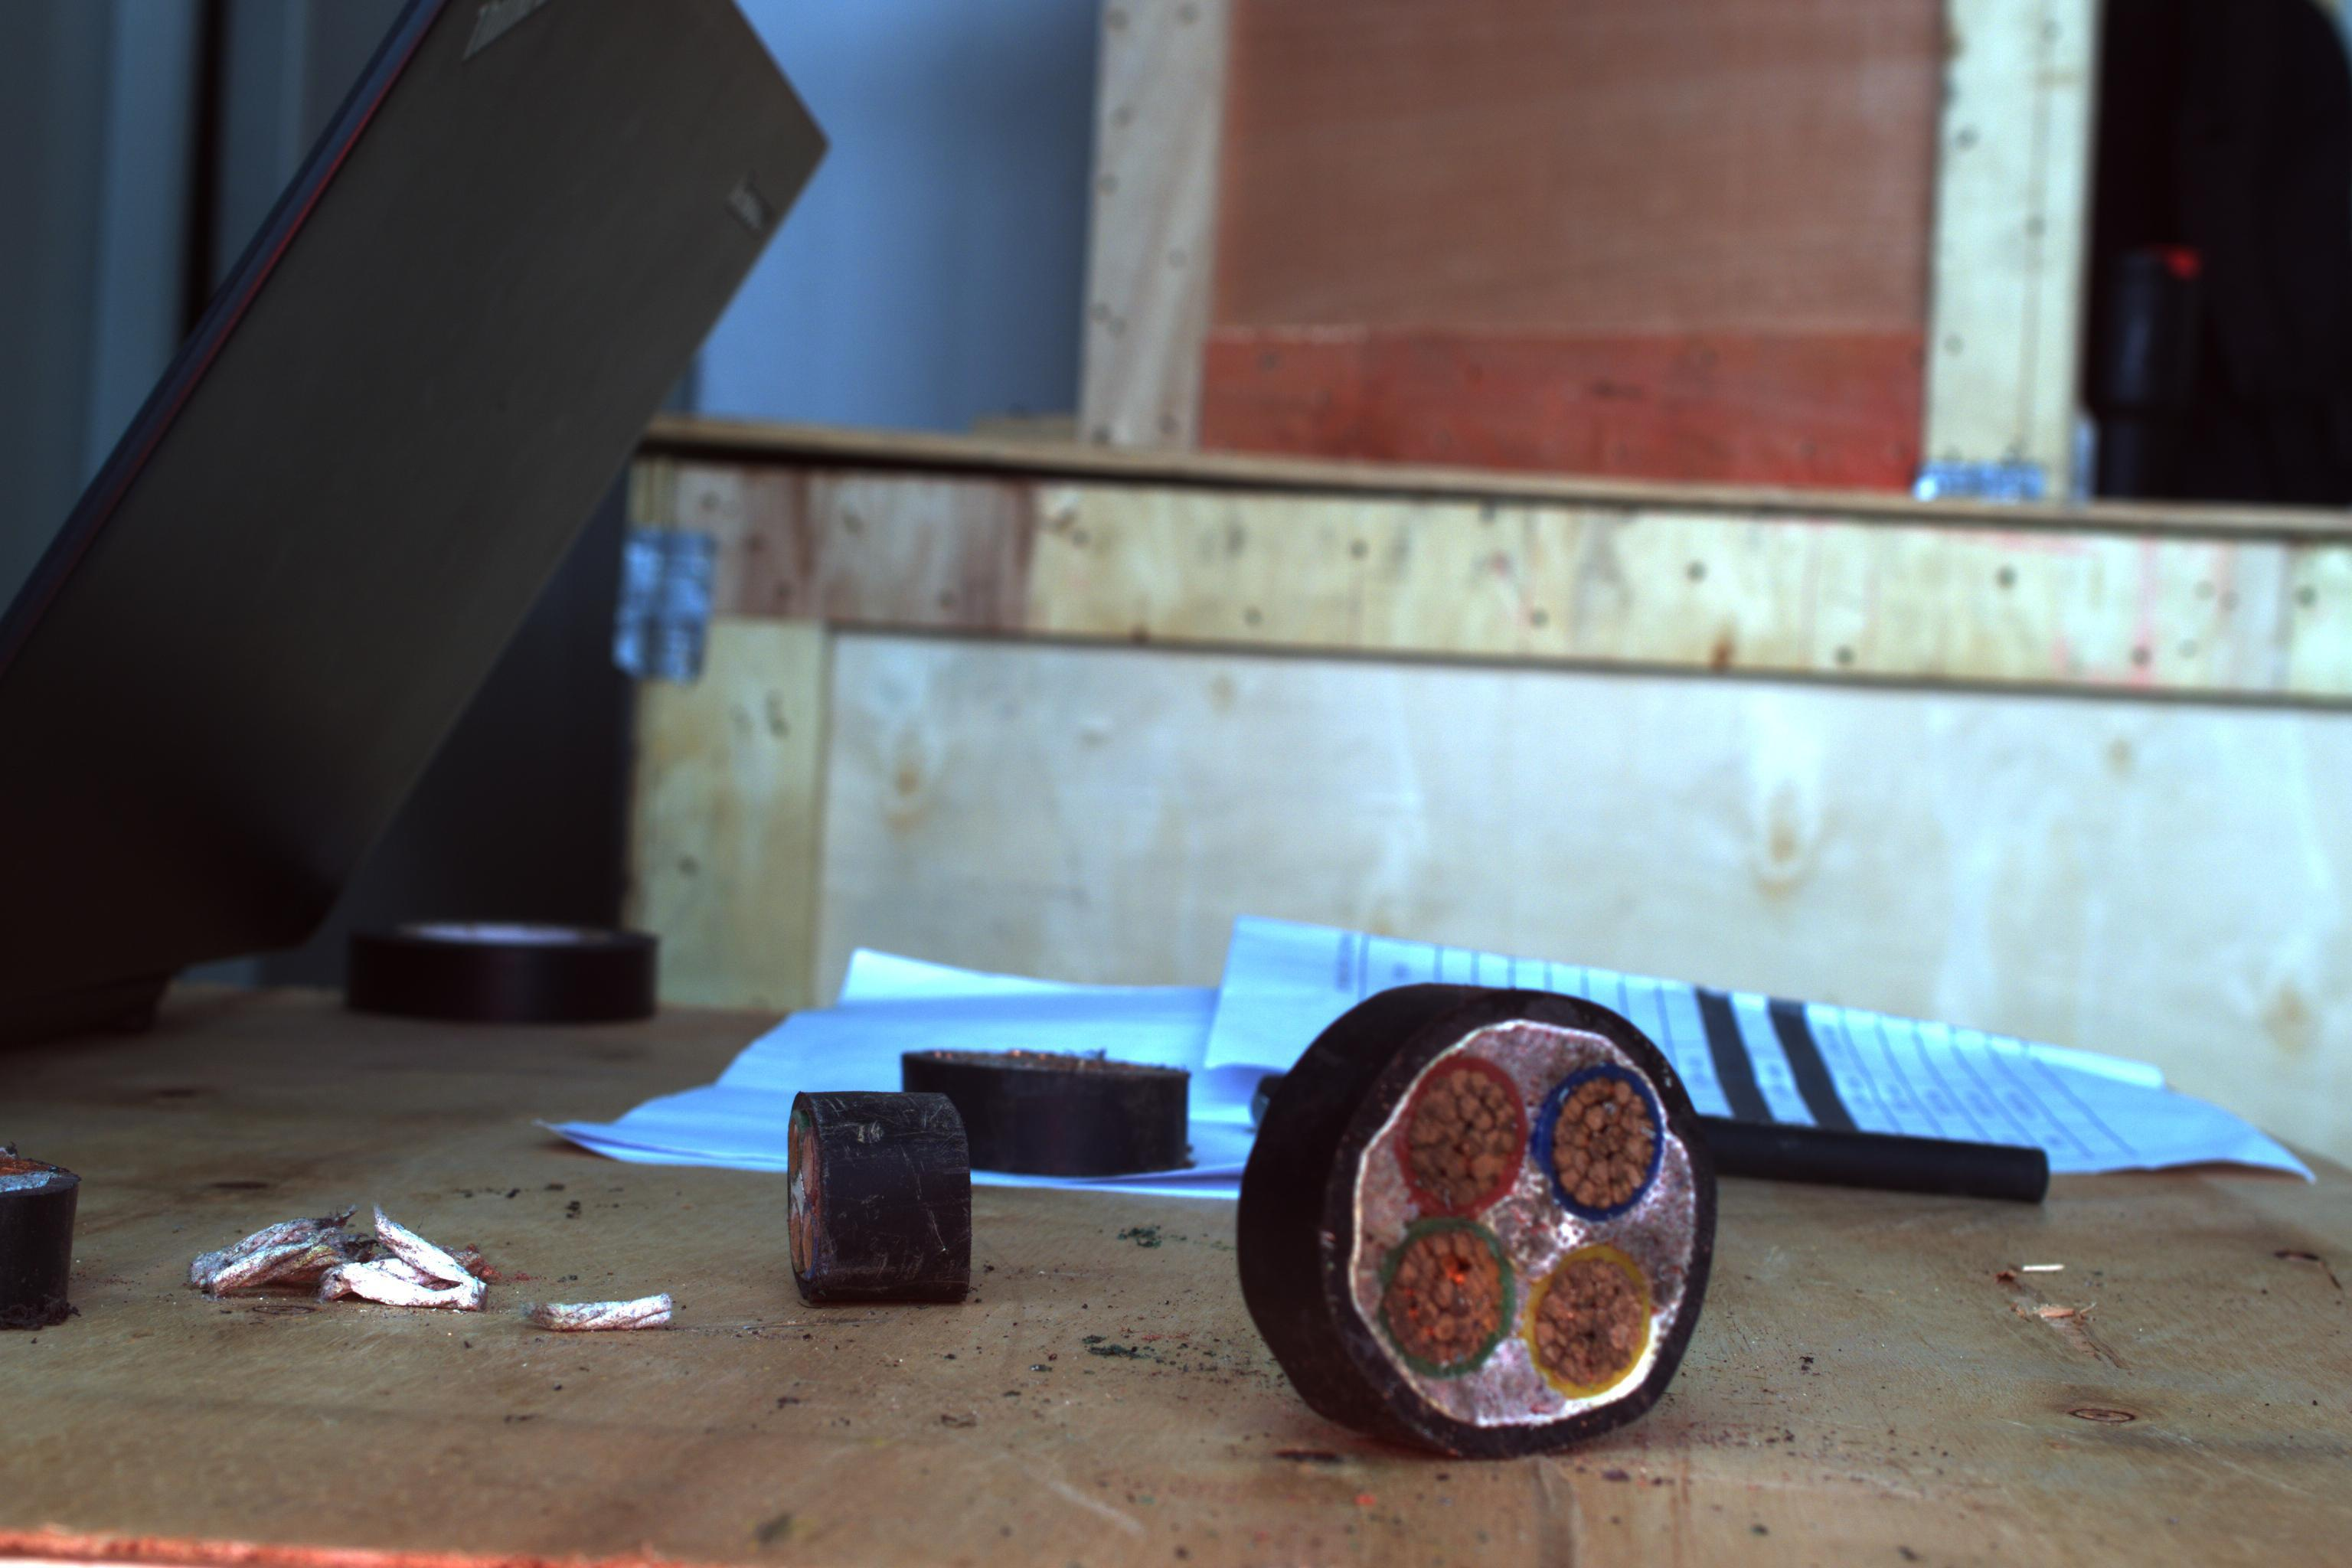YJV_0.6_1kV_4x120: (1300, 983, 1746, 1428)
